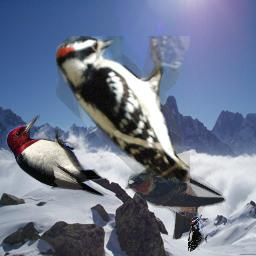Swallow: (125, 164, 226, 240)
Woodpecker: (56, 36, 190, 183), (1, 114, 110, 197), (188, 214, 208, 252)
